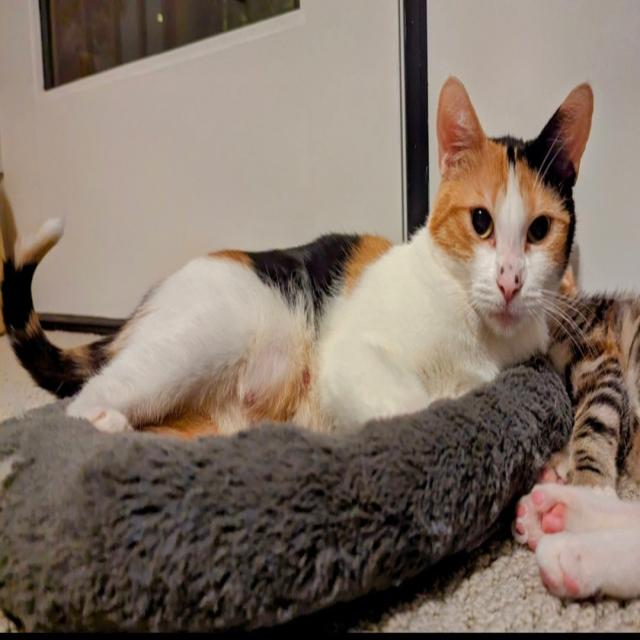calico_cat: (425, 70, 600, 355)
